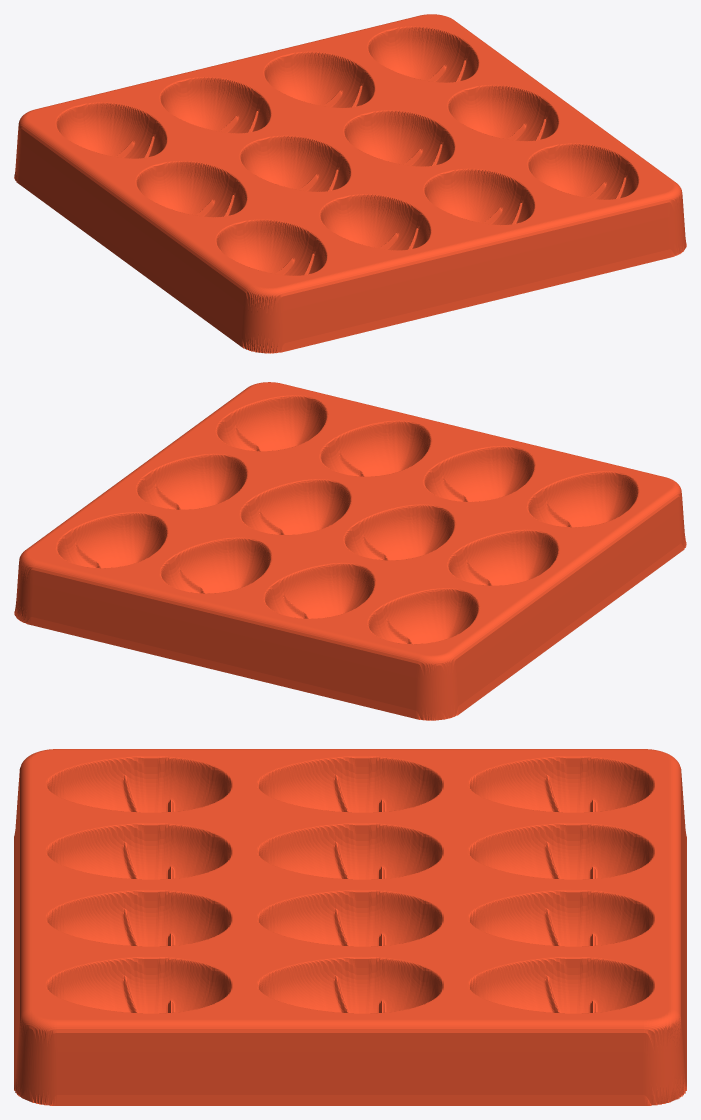
Rendered from mold.glb.
3 renders of one model, top to bottom at view 1: azimuth 30°, elevation 25°; view 2: azimuth 150°, elevation 25°; view 3: azimuth 270°, elevation 25°, orthographic. The views are drawn at different scales.
Visible parts, largest first — view 1: geometry_0; view 2: geometry_0; view 3: geometry_0.
Part boxes in pixels (left/top/right/bottom): geometry_0: left=14, top=14, right=686, bottom=353; geometry_0: left=14, top=382, right=686, bottom=720; geometry_0: left=14, top=749, right=686, bottom=1105.
Bounding box in the file's own units: 0.141 × 0.0182 × 0.141.
